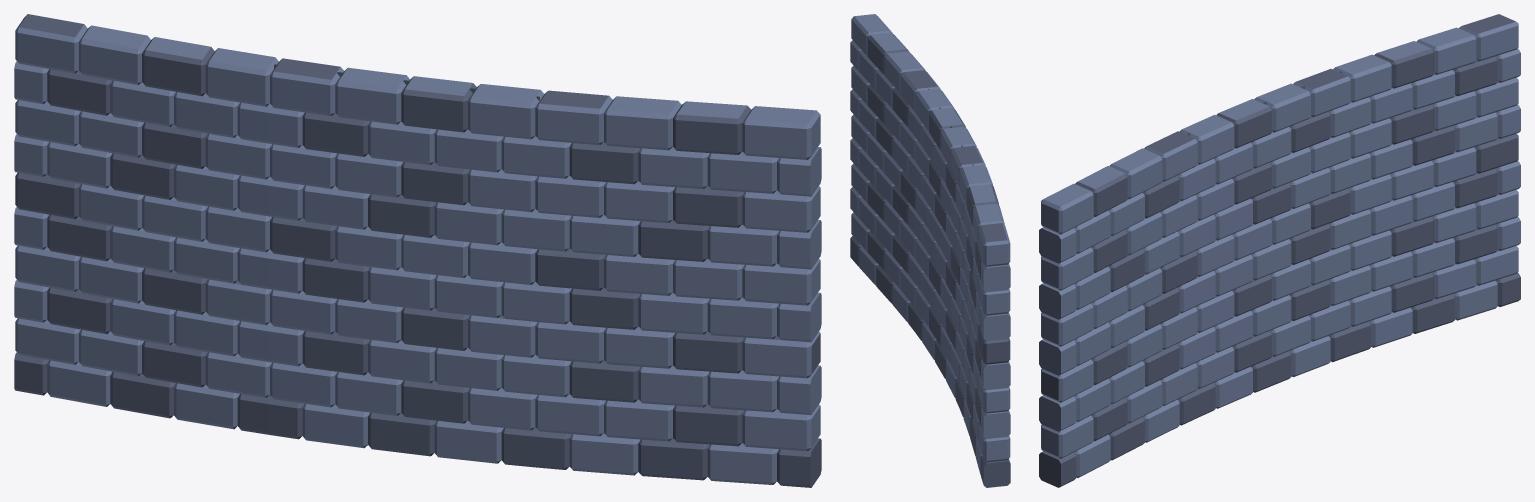
File: wall_lakeveil.fbx
The picture shows the model from 3 angles, left to right: view 1: azimuth 30°, elevation 25°; view 2: azimuth 150°, elevation 25°; view 3: azimuth 270°, elevation 25°; orthographic projection. The views are drawn at different scales.
Visible parts, largest first — view 1: brick wall.169; view 2: brick wall.169; view 3: brick wall.169.
Part boxes in pixels (x1,y1,x2,y2): brick wall.169: (14,14,821,487); brick wall.169: (850,14,1010,487); brick wall.169: (1039,14,1520,487).
Bounding box in the file's own units: 460 × 306 × 477.
